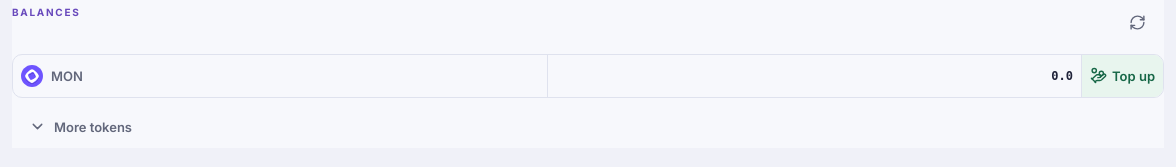
Test: loads additional balances without duplicating MON
Click the button "More tokens" at (93, 126), box [12,106,1164,148]
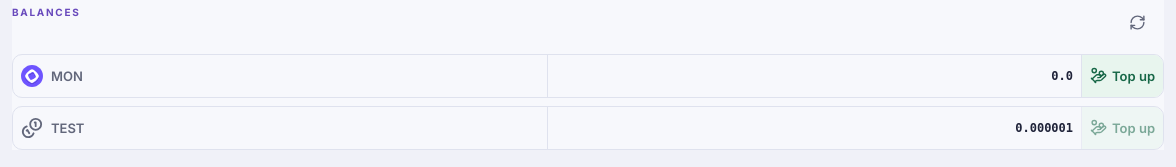
Check: the text "0.000001" is shown, box [547,107,1081,149]
Check: the text "MON" is shown once, box [51,66,83,85]
